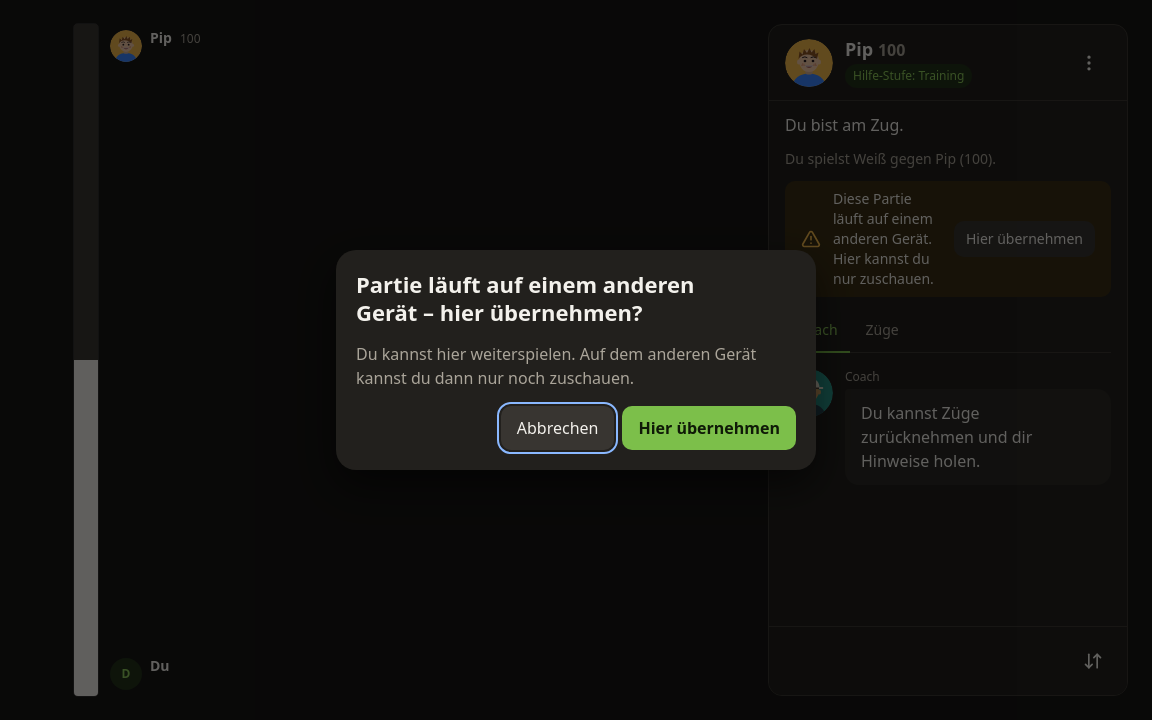
Test: Partie (game screen) › two pages on the same data: the second asks to take over, the first becomes read-only
The width and height of the screenshot is (1152, 720).
Expected: the element with test id "board" is shown, x1=110 y1=68 x2=694 y2=652
Click the button "Hier übernehmen" at coordinates (709, 428), box x1=622 y1=406 x2=796 y2=450
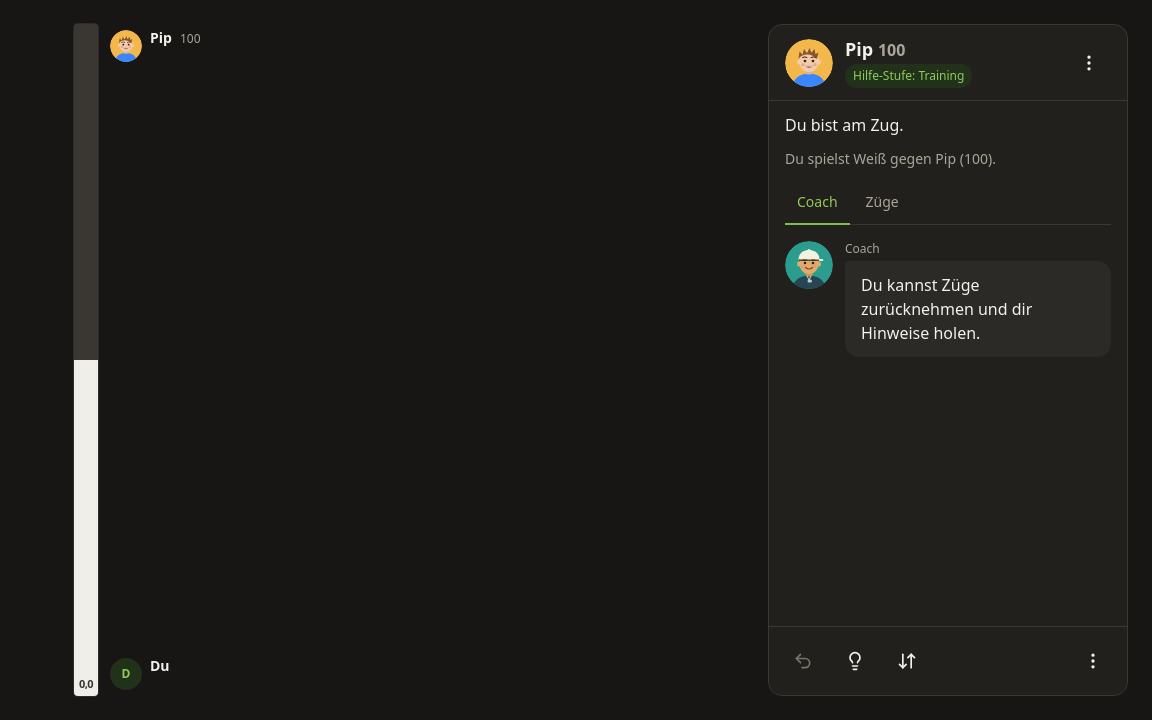
Result: the dialog is gone
Result: the button named "Zurücknehmen" is shown at x1=781 y1=639 x2=825 y2=683
